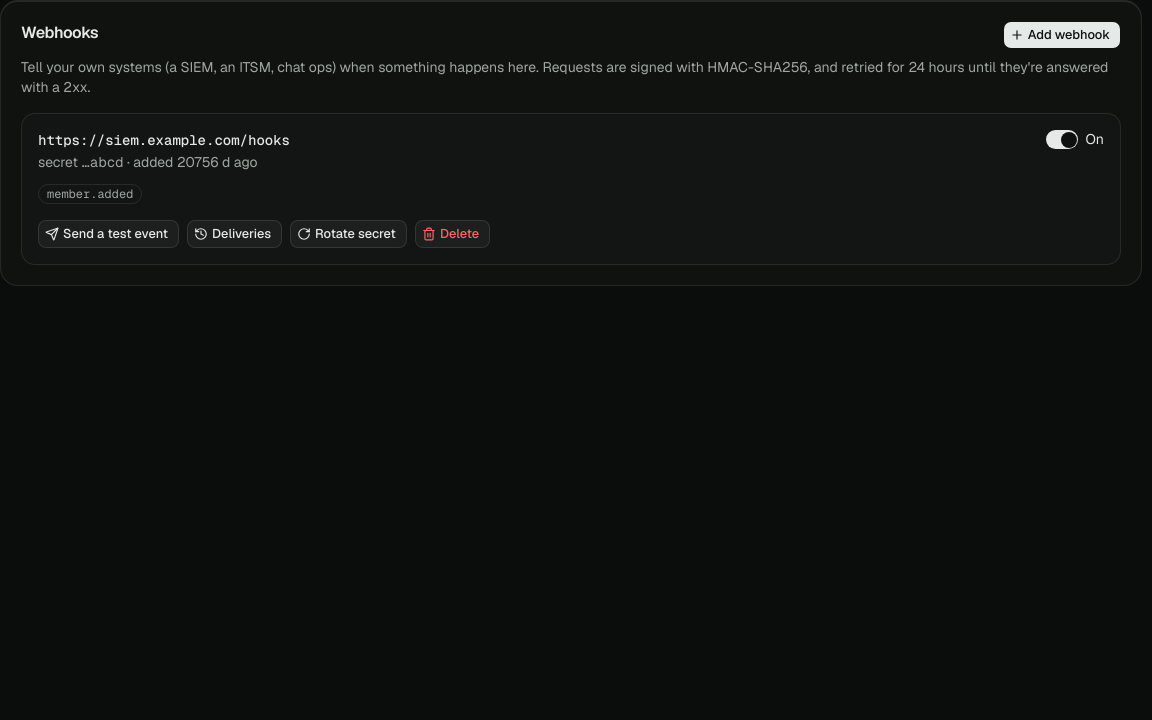
Test: WebhooksView: rotating a webhook's secret › can stop the old secret at once
This screenshot has width=1152, height=720.
Click the button "Rotate secret".
click(348, 234)  # box [290,220,407,248]
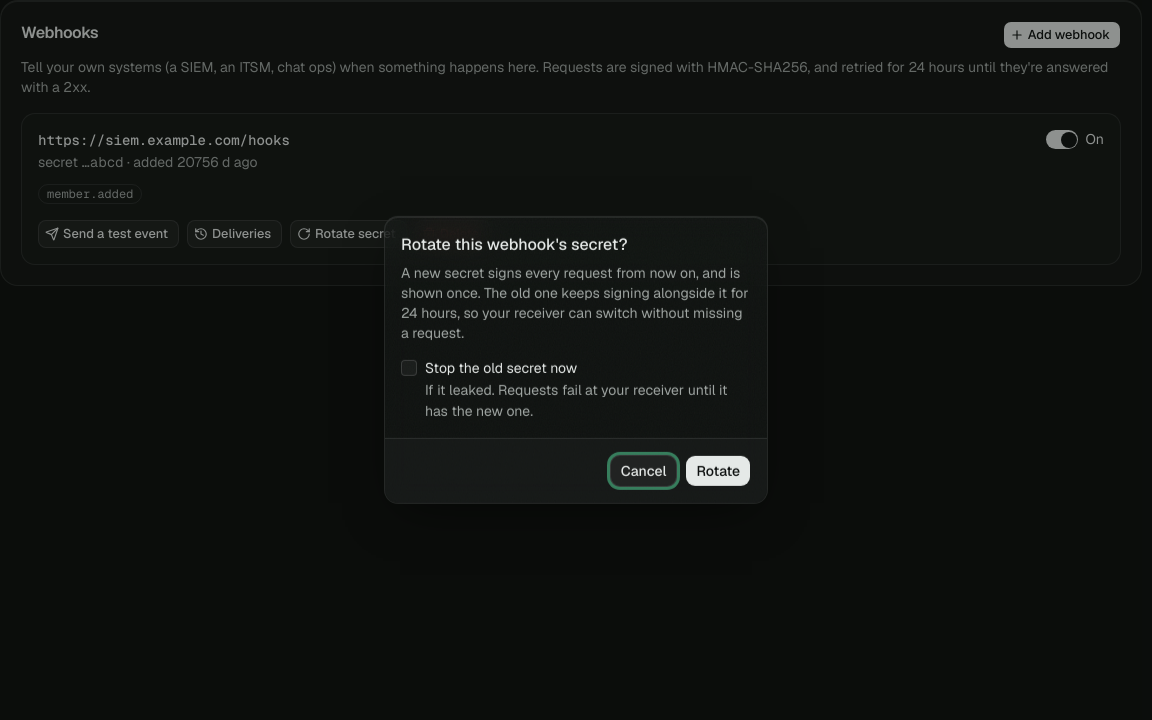
Click the checkbox named "Stop the old secret now".
click(409, 368)  # box [401,360,417,376]
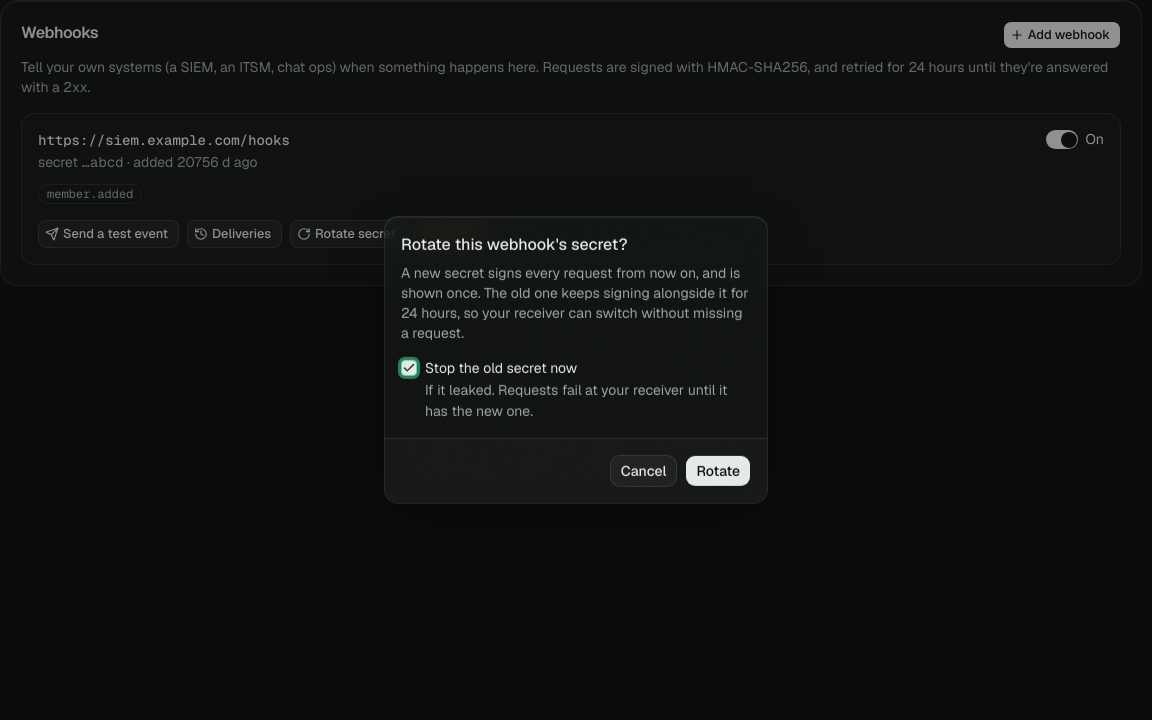
Click the button "Rotate".
click(718, 471)  # box [685,455,751,487]
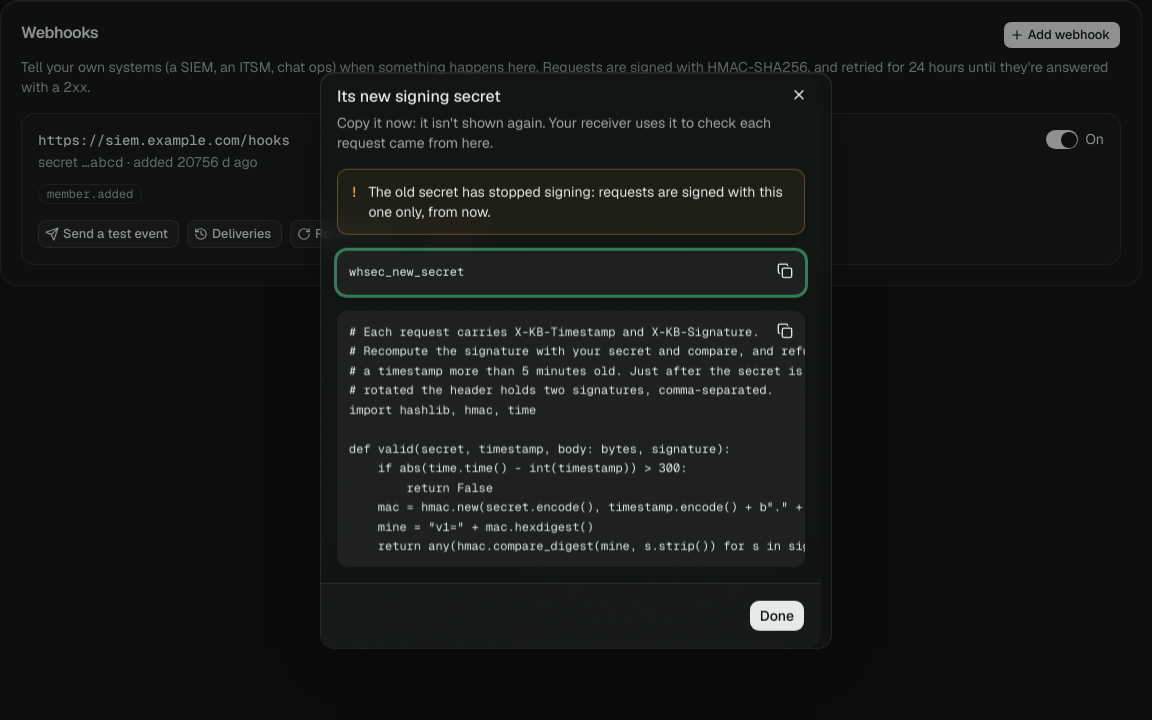
expect the text "The old secret has stopped signing" is shown: met, box [368,183,783,221]
